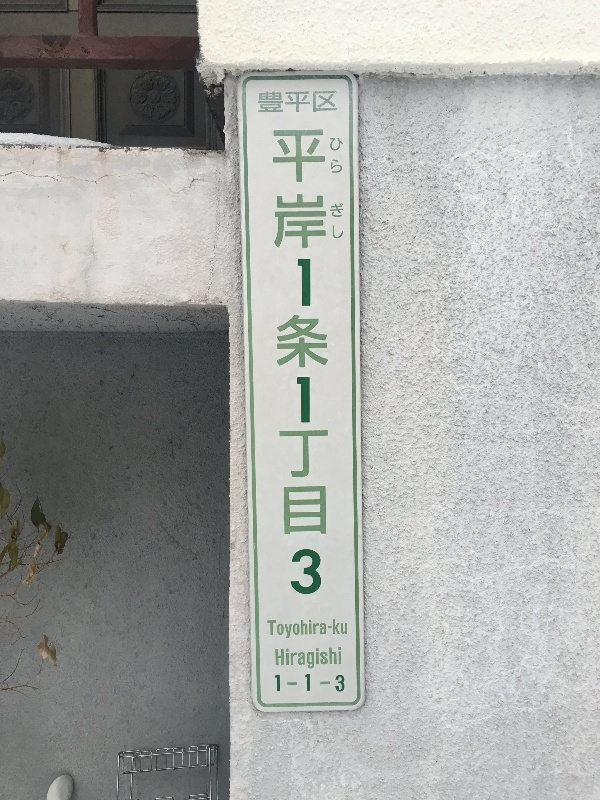text: (273, 130, 288, 598), (289, 130, 304, 598), (305, 130, 320, 598), (321, 130, 328, 598), (270, 130, 272, 598), (289, 648, 304, 673), (305, 648, 320, 673), (321, 648, 336, 673), (257, 90, 272, 113), (273, 90, 288, 113), (289, 90, 304, 113), (305, 90, 320, 113), (321, 90, 336, 113), (273, 620, 288, 640), (289, 620, 304, 640), (305, 620, 320, 640), (321, 620, 336, 640), (276, 648, 288, 673), (337, 202, 344, 242), (289, 676, 304, 694), (305, 676, 320, 694), (321, 676, 336, 694), (275, 676, 288, 694), (330, 136, 336, 174), (337, 136, 343, 174), (337, 620, 348, 640), (331, 202, 336, 242), (337, 676, 345, 694), (337, 648, 342, 673), (267, 620, 272, 640), (337, 90, 338, 113)
